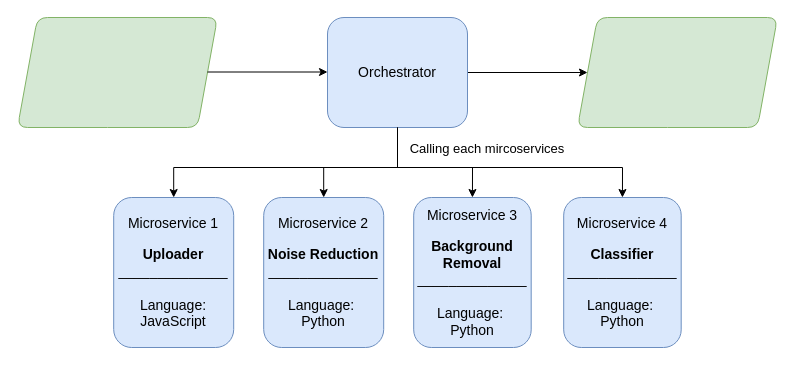
This 795x365 diagram has some shape labels left out. Each missing label, with the centre of its shape:
"Input: Noisy Raw Image" belongs at (117,72).
"Output: Image with background removed Class of the Image" belongs at (677,72).
